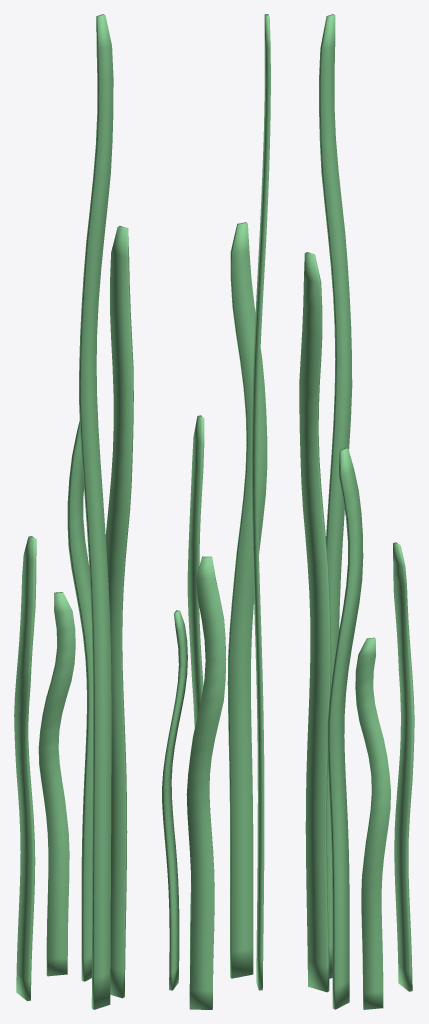
Rendered from Large3.fbx.
3 renders of one model, left to right at view 1: azimuth 90°, elevation 25°; view 2: azimuth 150°, elevation 25°; view 3: azimuth 270°, elevation 25°, orthographic. The views are drawn at different scales.
Parts seen in each view (by area): view 1: Large3_EXPORT; view 2: Large3_EXPORT; view 3: Large3_EXPORT.
Boxes of the visible parts, x1,y1,x2,y2 form: Large3_EXPORT: [14, 14, 133, 1009]; Large3_EXPORT: [162, 14, 270, 1009]; Large3_EXPORT: [299, 14, 414, 1009].
Size of the model in its own units: 1.25 by 13.64 by 1.49.
